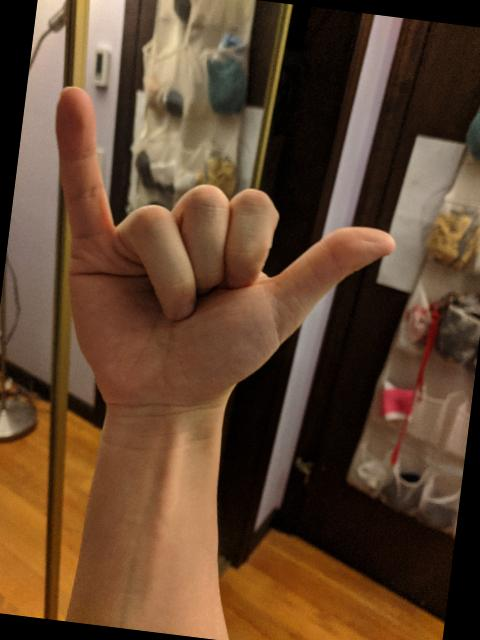Y: (18, 80, 416, 440)
